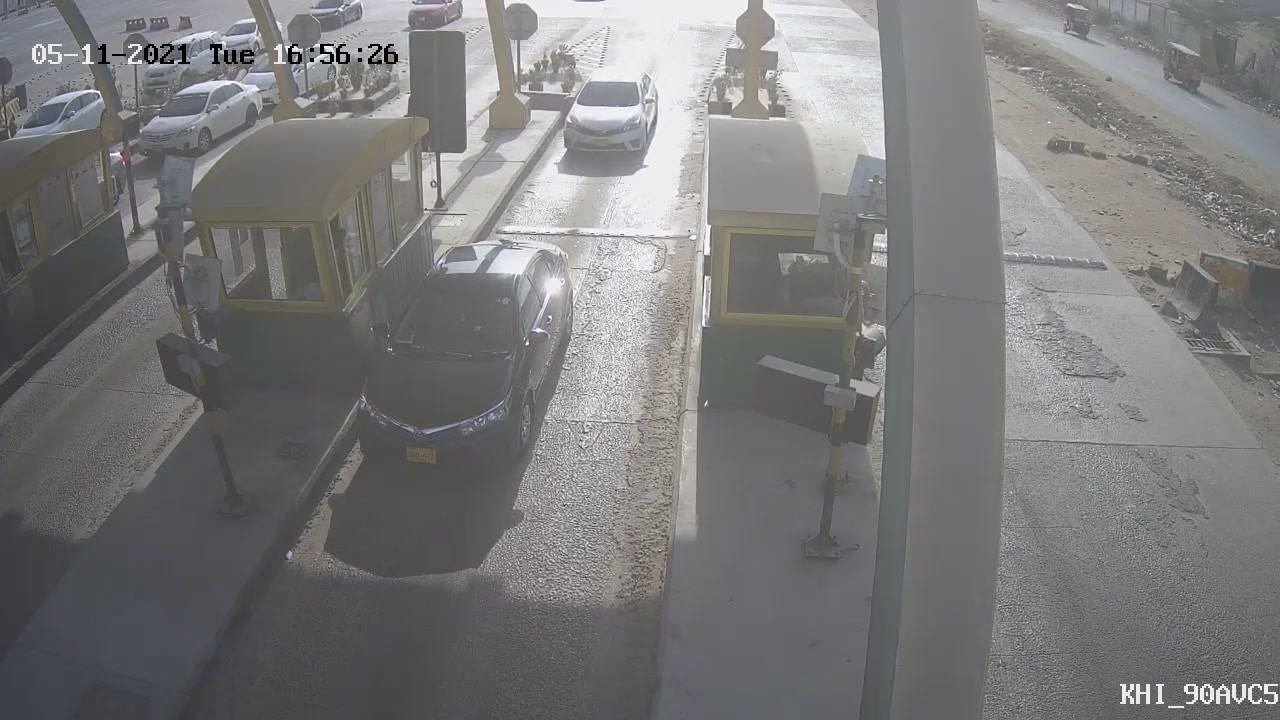F1: (344, 217, 587, 503), (539, 52, 672, 177)
